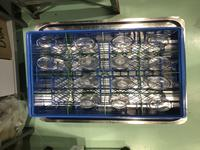Glass: (145, 95, 172, 112), (143, 34, 170, 51), (36, 36, 65, 51), (35, 57, 65, 70), (74, 37, 99, 52), (144, 76, 170, 90), (144, 57, 171, 70), (111, 35, 133, 50), (108, 94, 129, 109), (79, 95, 101, 108), (78, 57, 100, 70), (111, 76, 132, 89), (110, 56, 130, 69), (77, 77, 98, 87)
